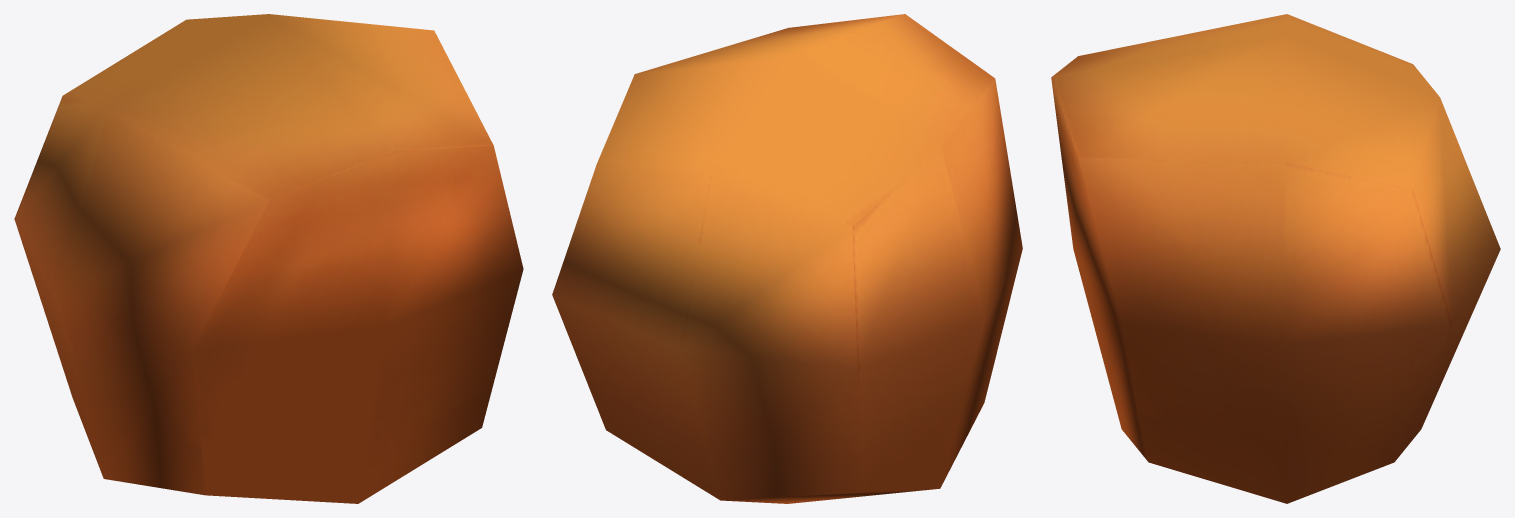
File: hair_crewcut_mesh.fbx
3 renders of one model, left to right at view 1: azimuth 30°, elevation 25°; view 2: azimuth 150°, elevation 25°; view 3: azimuth 270°, elevation 25°, orthographic. The views are drawn at different scales.
Visible parts, largest first — view 1: hair_crewcut_mesh; view 2: hair_crewcut_mesh; view 3: hair_crewcut_mesh.
Boxes of the visible parts, x1,y1,x2,y2 form: hair_crewcut_mesh: [14, 14, 523, 503]; hair_crewcut_mesh: [552, 14, 1022, 503]; hair_crewcut_mesh: [1051, 14, 1500, 503].
Bounding box in the file's own units: 18.69 × 20.13 × 18.4.
